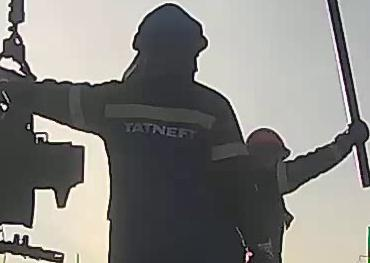gloves: (332, 118, 370, 162)
helmet: (132, 3, 212, 60), (245, 126, 291, 159)
vest: (69, 77, 250, 263), (246, 156, 303, 238)
